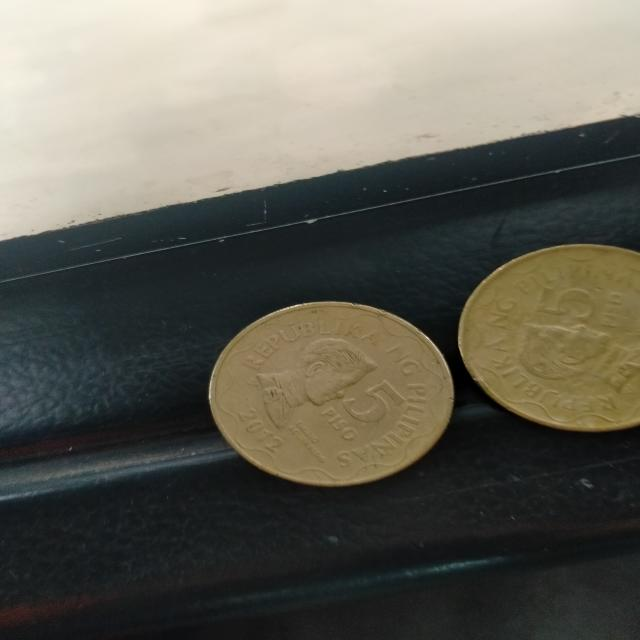5_Old_Front: (302, 372, 396, 445), (526, 275, 616, 337)
